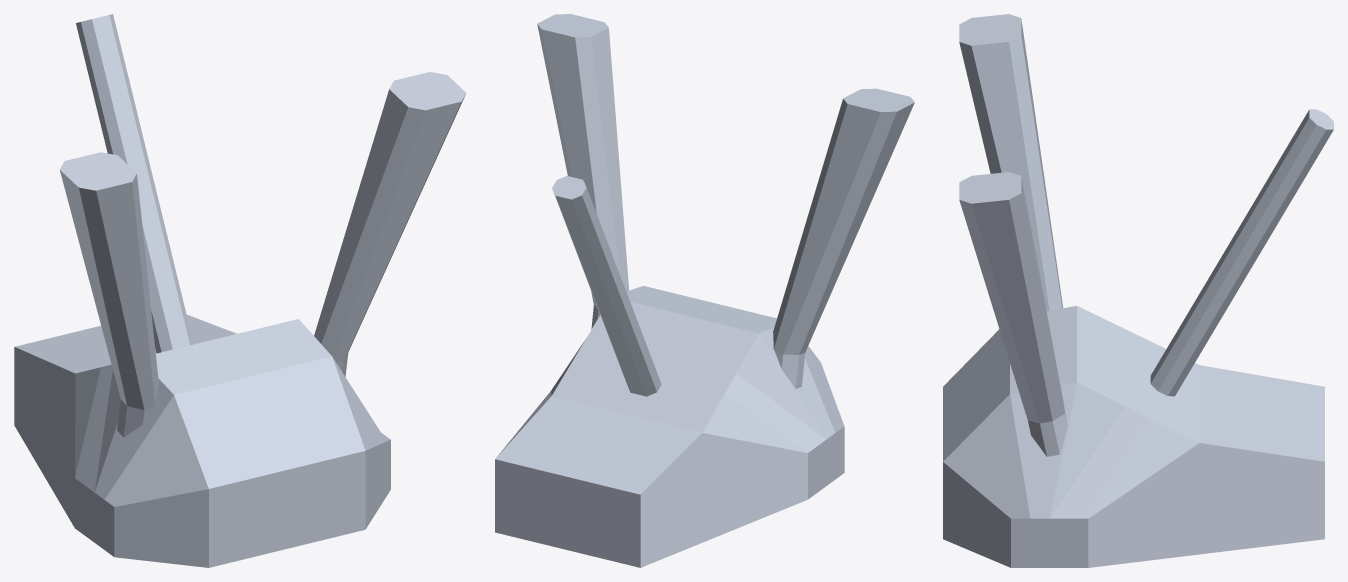
File: Tower_Stand_.fbx
3 views of the same model, side by side, from view 1: azimuth 30°, elevation 25°; view 2: azimuth 150°, elevation 25°; view 3: azimuth 270°, elevation 25° (orthographic). The views are drawn at different scales.
Parts seen in each view (by area): view 1: Cube.003, Cube.002; view 2: Cube.003, Cube.002; view 3: Cube.003, Cube.002.
Part boxes in pixels (bbox=[...]): Cube.003: bbox=[14, 14, 390, 567]; Cube.002: bbox=[59, 72, 466, 437]; Cube.003: bbox=[495, 176, 844, 567]; Cube.002: bbox=[537, 14, 914, 388]; Cube.003: bbox=[943, 109, 1333, 567]; Cube.002: bbox=[959, 14, 1067, 456].
Size of the model in its own units: 59.05 by 58.7 by 52.49.
